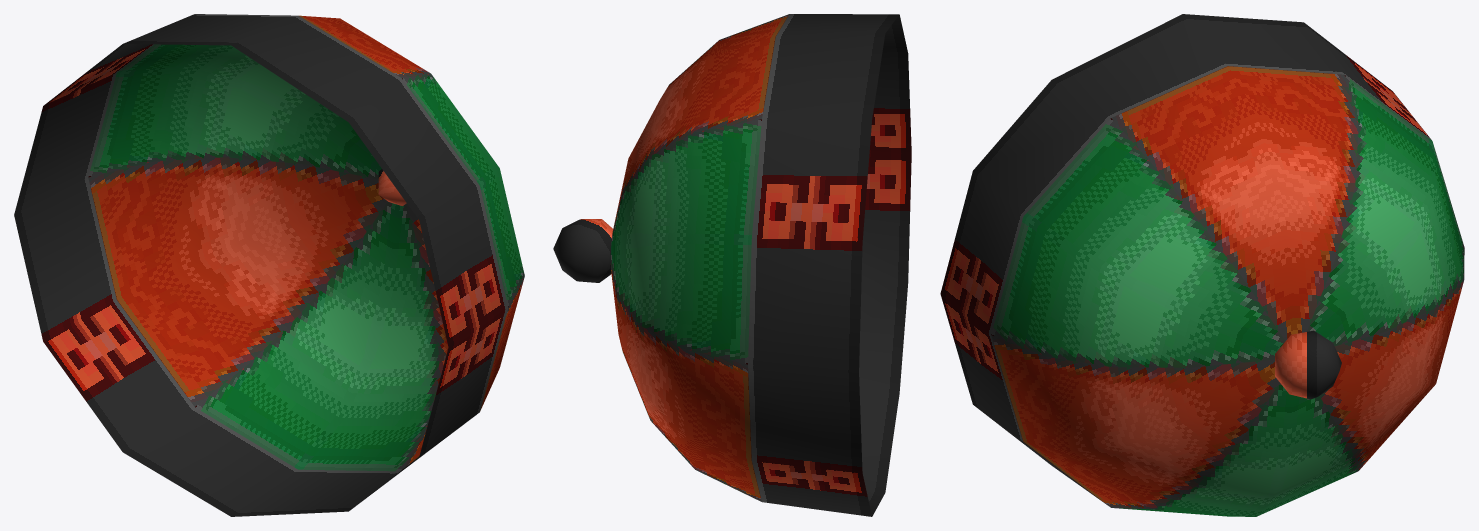
The model's file is cap_hat_silk.dae.
The picture shows the model from 3 angles, left to right: view 1: azimuth 30°, elevation 25°; view 2: azimuth 150°, elevation 25°; view 3: azimuth 270°, elevation 25°; orthographic projection. The views are drawn at different scales.
Visible parts, largest first — view 1: cap_hat_silk; view 2: cap_hat_silk; view 3: cap_hat_silk.
Boxes of the visible parts, left/top/right/bottom form: cap_hat_silk: left=14, top=14, right=524, bottom=516; cap_hat_silk: left=553, top=14, right=911, bottom=516; cap_hat_silk: left=940, top=14, right=1464, bottom=516.
Bounding box in the file's own units: 17.2 × 21.14 × 21.47.
1 material, 1 textured.
